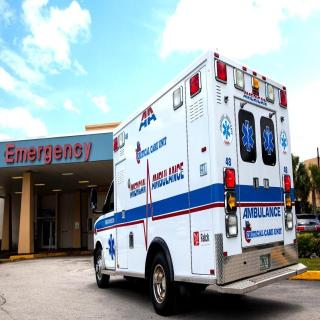Ambulance: (79, 46, 304, 312)
